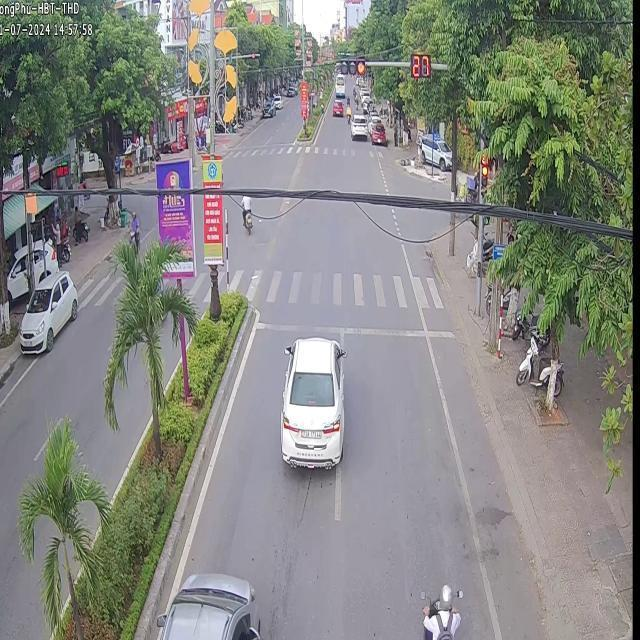car: (279, 336, 344, 467), (156, 571, 259, 638), (18, 269, 77, 351), (349, 111, 366, 136)
motobike: (422, 582, 459, 638), (239, 194, 250, 234)
red_light: (339, 55, 367, 74), (410, 54, 430, 77), (481, 146, 487, 194)
stop_line: (251, 320, 453, 339)
